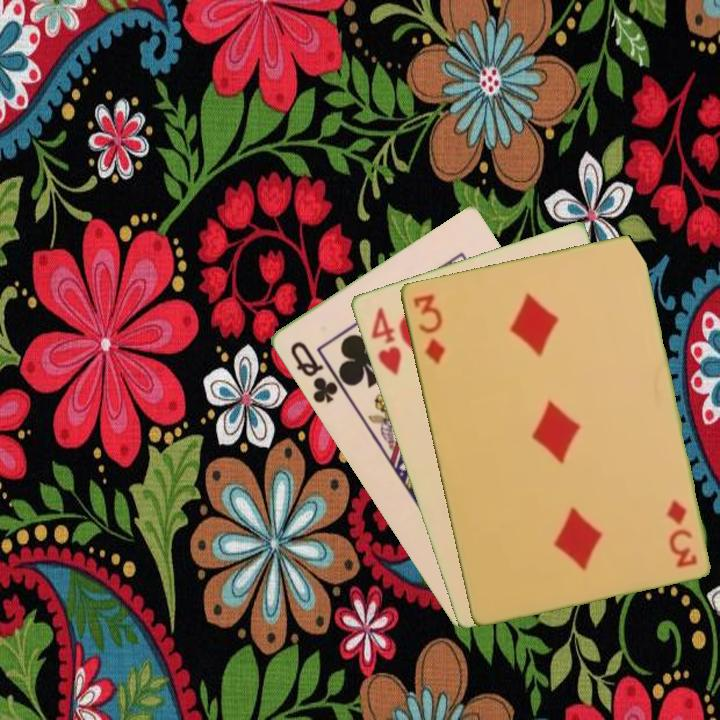3d: (409, 290, 448, 367), (662, 496, 700, 570)
4h: (367, 303, 404, 378)
Qc: (286, 337, 341, 407)
